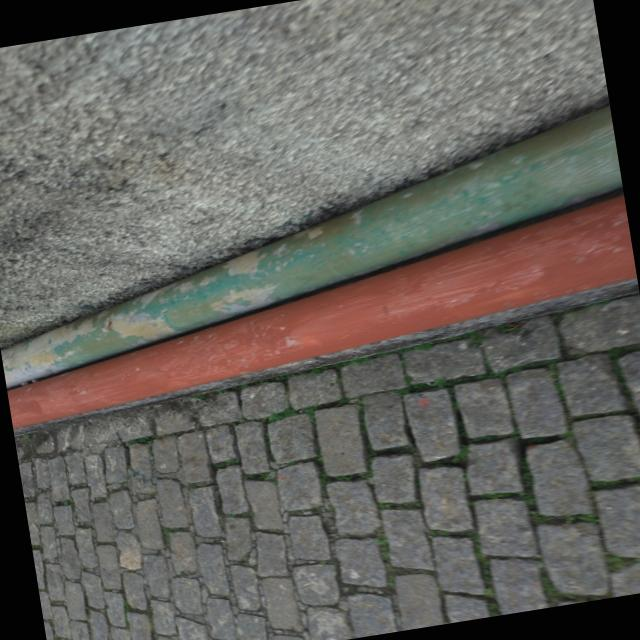gas: (1, 106, 621, 388), (8, 192, 637, 429)
